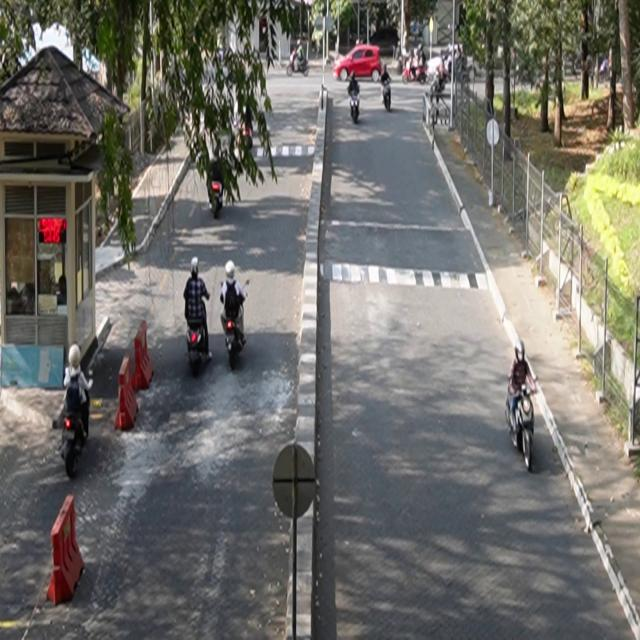car: (333, 45, 383, 83)
